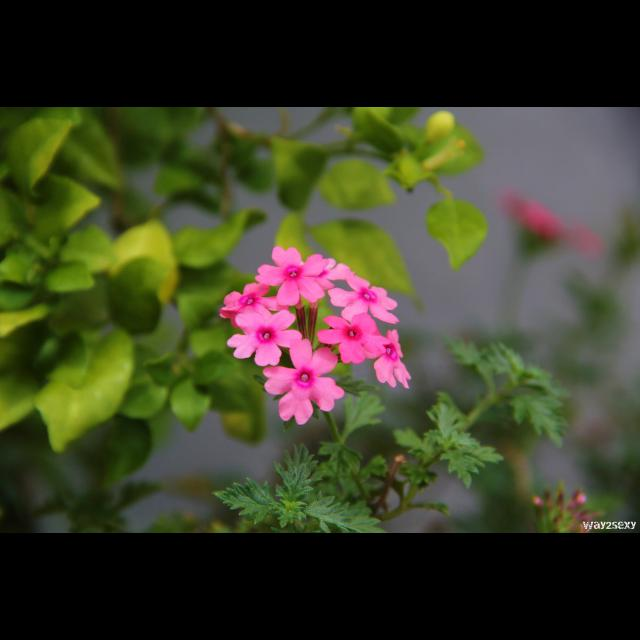Flower: (260, 339, 344, 425), (252, 246, 330, 304), (328, 268, 398, 322), (234, 302, 290, 368), (316, 314, 389, 364), (221, 283, 291, 319), (372, 328, 412, 389)
